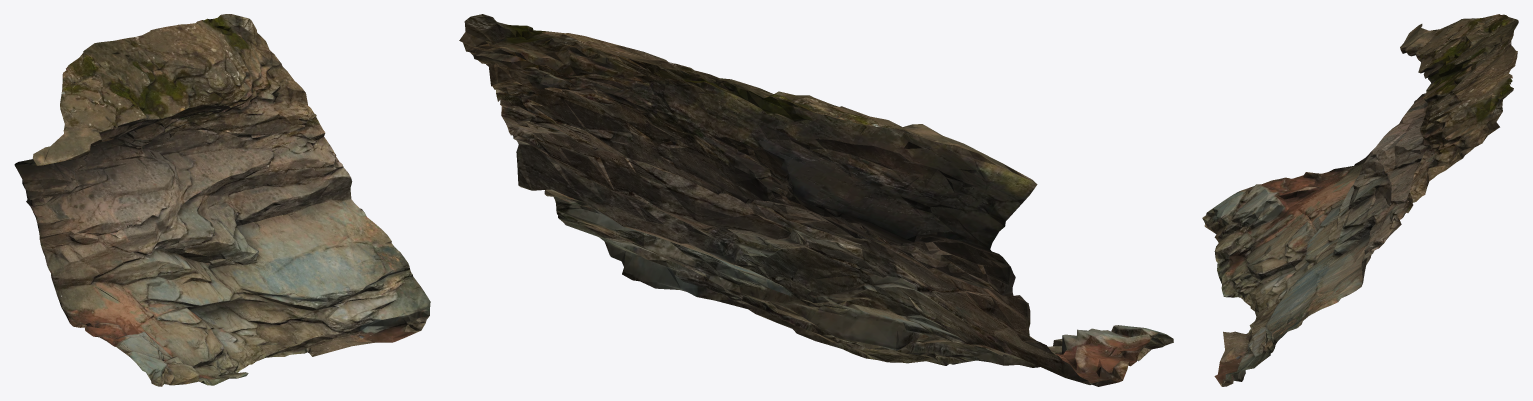
Rendered from rock_face_01.glb.
3 views of the same model, side by side, from view 1: azimuth 30°, elevation 25°; view 2: azimuth 150°, elevation 25°; view 3: azimuth 270°, elevation 25° (orthographic). The views are drawn at different scales.
Visible parts, largest first — view 1: rock_face_01; view 2: rock_face_01; view 3: rock_face_01.
Boxes of the visible parts, left/top/right/bottom form: rock_face_01: left=14, top=14, right=430, bottom=386; rock_face_01: left=459, top=14, right=1173, bottom=386; rock_face_01: left=1202, top=14, right=1518, bottom=386.
Bounding box in the file's own units: 4.94 × 3.56 × 3.82.
1 material, 1 textured.
